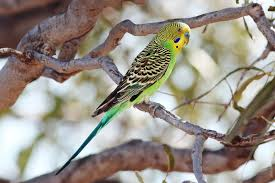budgie: (55, 22, 191, 173)
